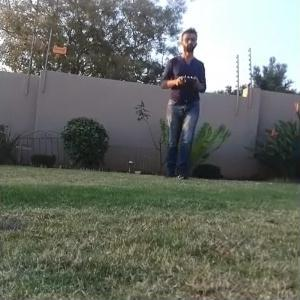follow: (153, 23, 210, 183)
